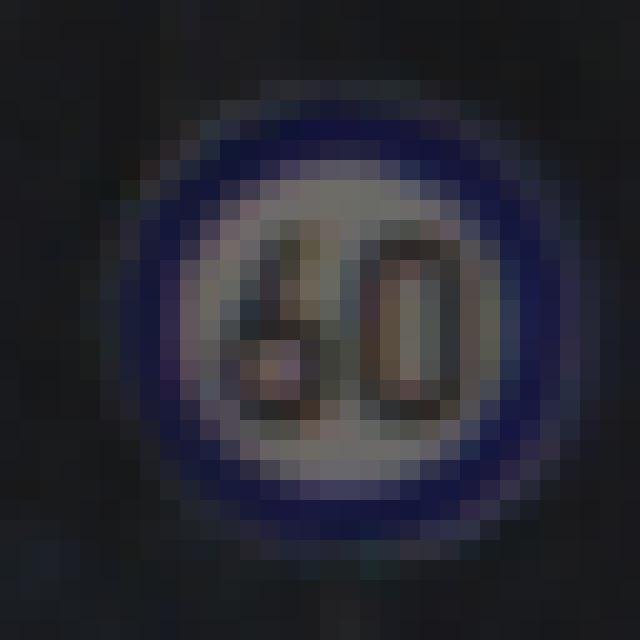SPEED-LIMIT-60: (68, 74, 602, 567)
